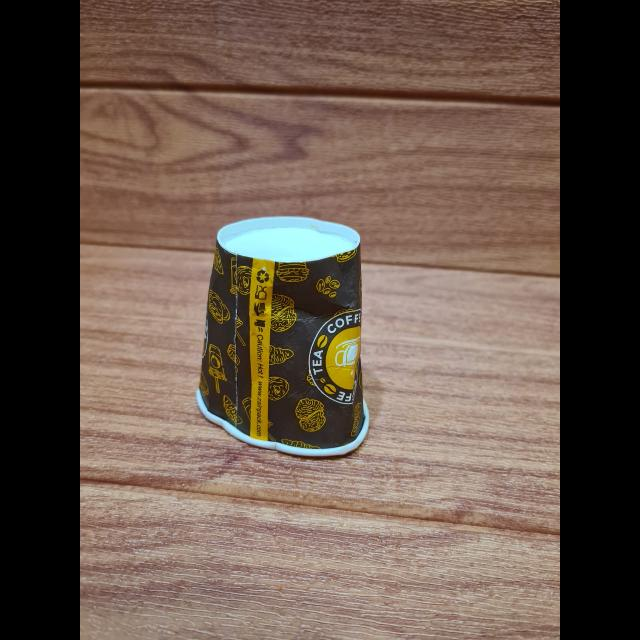trash: (192, 214, 378, 462)
